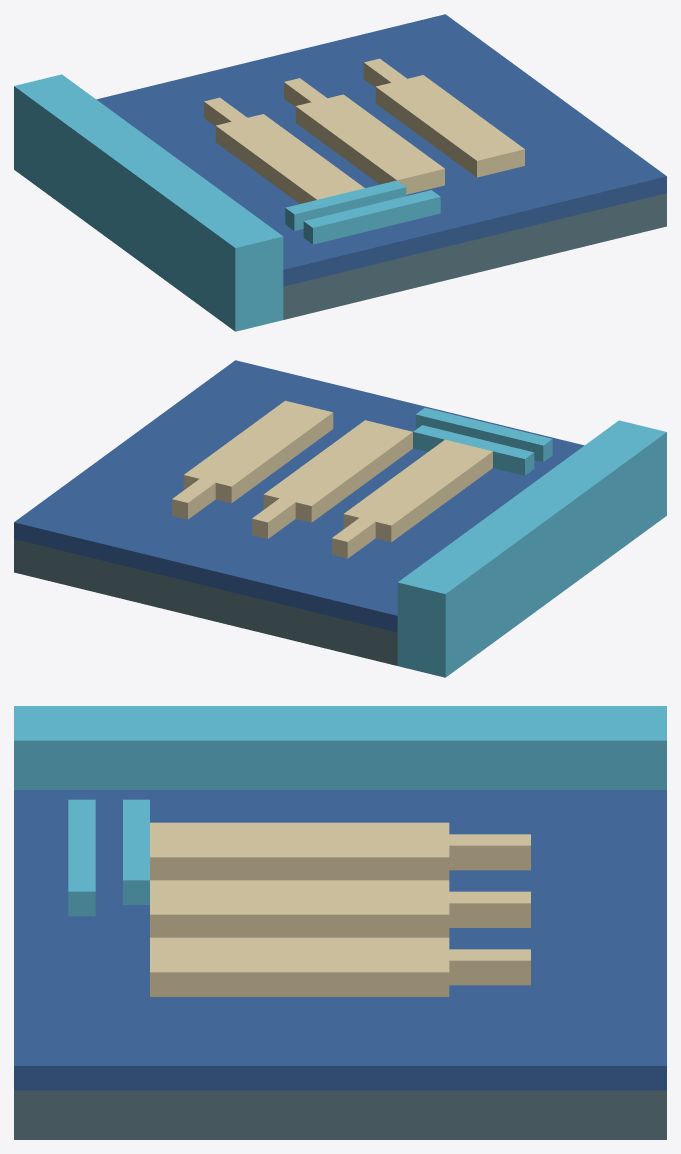
Rendered from voxel_32_70202.glb.
3 views of the same model, one above another, from view 1: azimuth 30°, elevation 25°; view 2: azimuth 150°, elevation 25°; view 3: azimuth 270°, elevation 25° (orthographic). The views are drawn at different scales.
Visible parts, largest first — view 1: prop_70202; view 2: prop_70202; view 3: prop_70202.
Part boxes in pixels (left/top/right/bottom): prop_70202: left=14, top=14, right=666, bottom=331; prop_70202: left=14, top=360, right=666, bottom=677; prop_70202: left=14, top=706, right=666, bottom=1139.
Bounding box in the file's own units: 0.7003 × 0.1297 × 0.6225.
